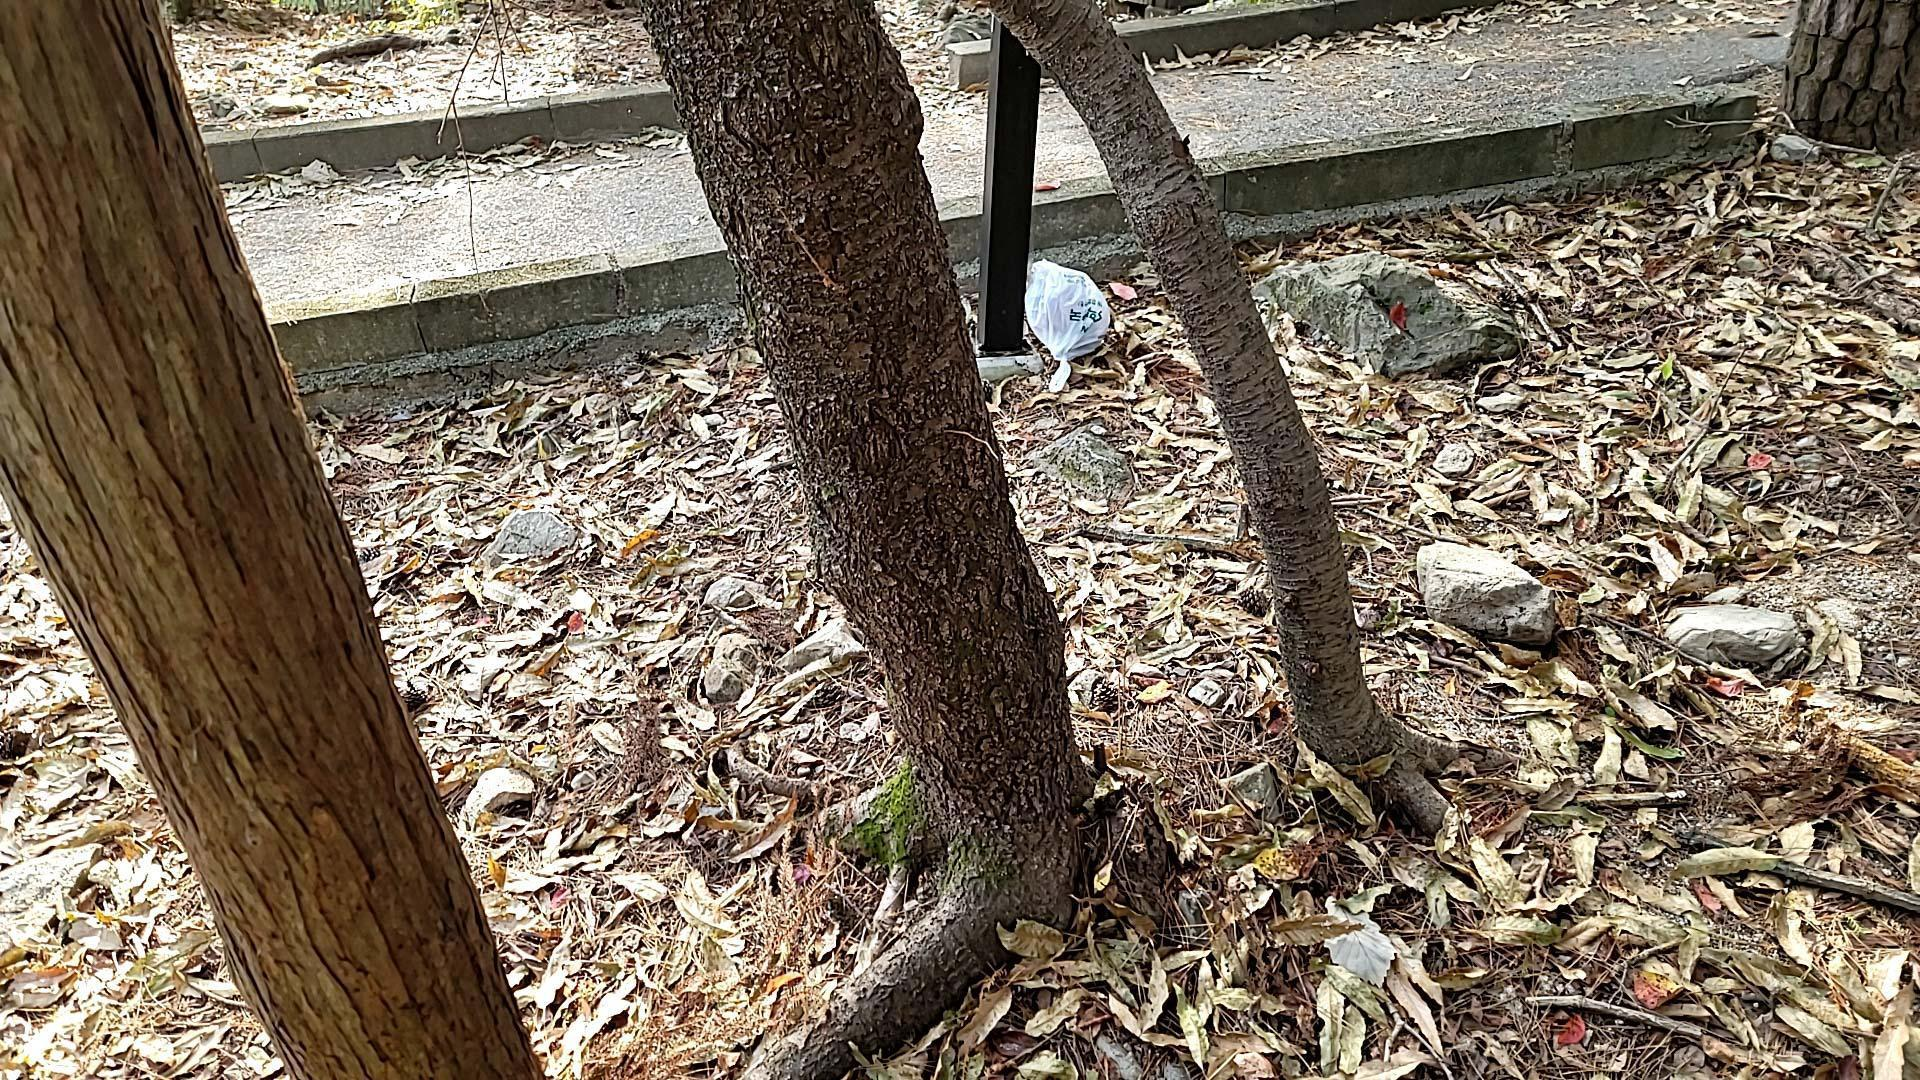white_bag: (1015, 252, 1124, 401)
